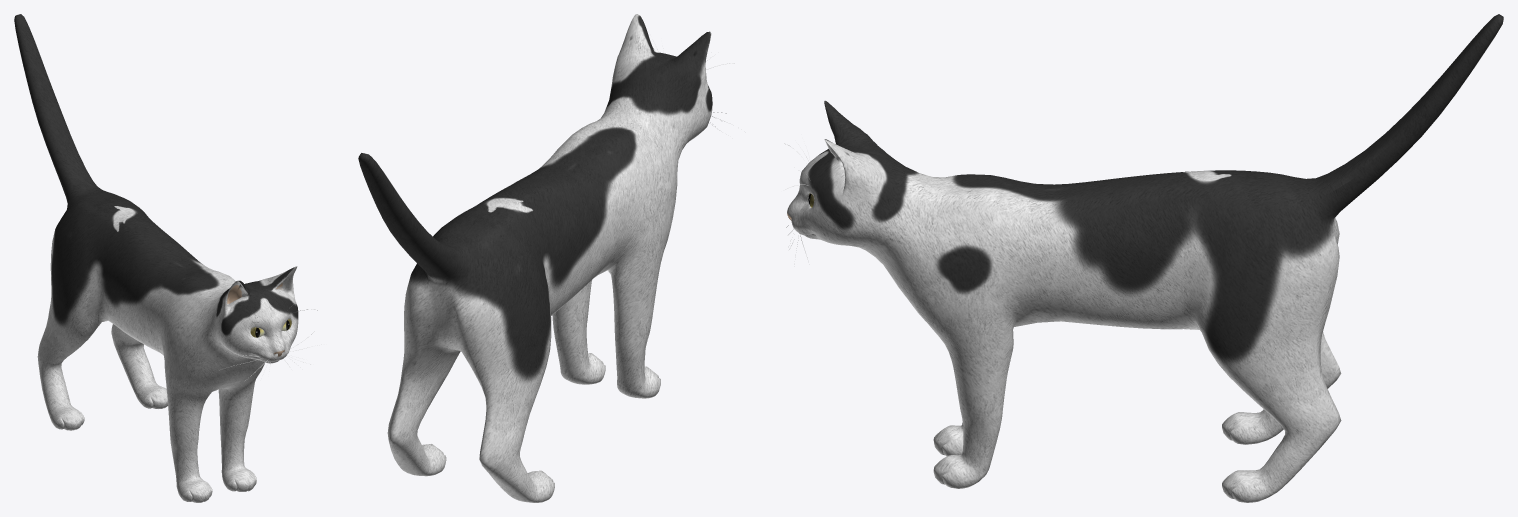
Rendered from cat.glb.
3 views of the same model, side by side, from view 1: azimuth 30°, elevation 25°; view 2: azimuth 150°, elevation 25°; view 3: azimuth 270°, elevation 25° (orthographic). The views are drawn at different scales.
Visible parts, largest first — view 1: husa; view 2: husa; view 3: husa.
Part boxes in pixels (box(x1,y1,x2,y2)): husa: box(14, 14, 321, 502); husa: box(358, 14, 734, 502); husa: box(783, 14, 1503, 502).
Bounding box in the file's own units: 4.5 × 12.46 × 18.09.
9 materials, 9 textured.
